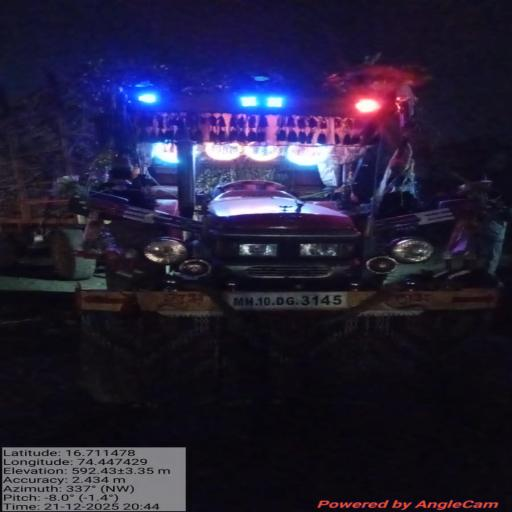number_plate: (214, 290, 372, 312)
